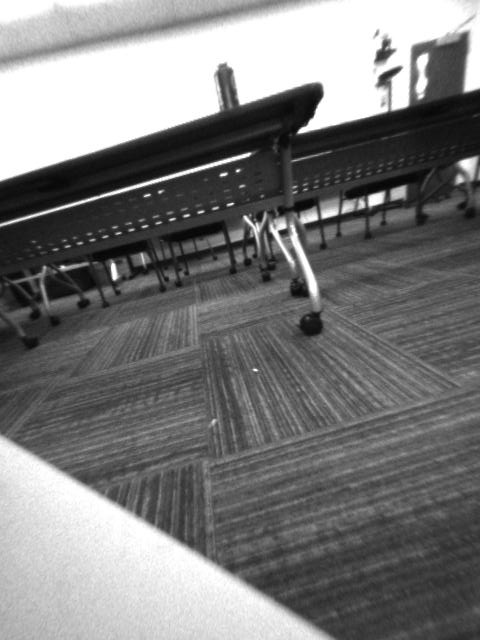can: (210, 64, 243, 111)
